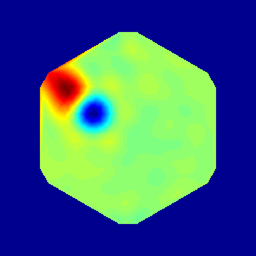ship: (78, 100, 106, 126)
wave: (51, 68, 89, 110)
